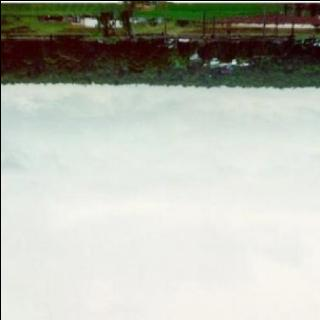Stratus: (0, 97, 320, 320)
